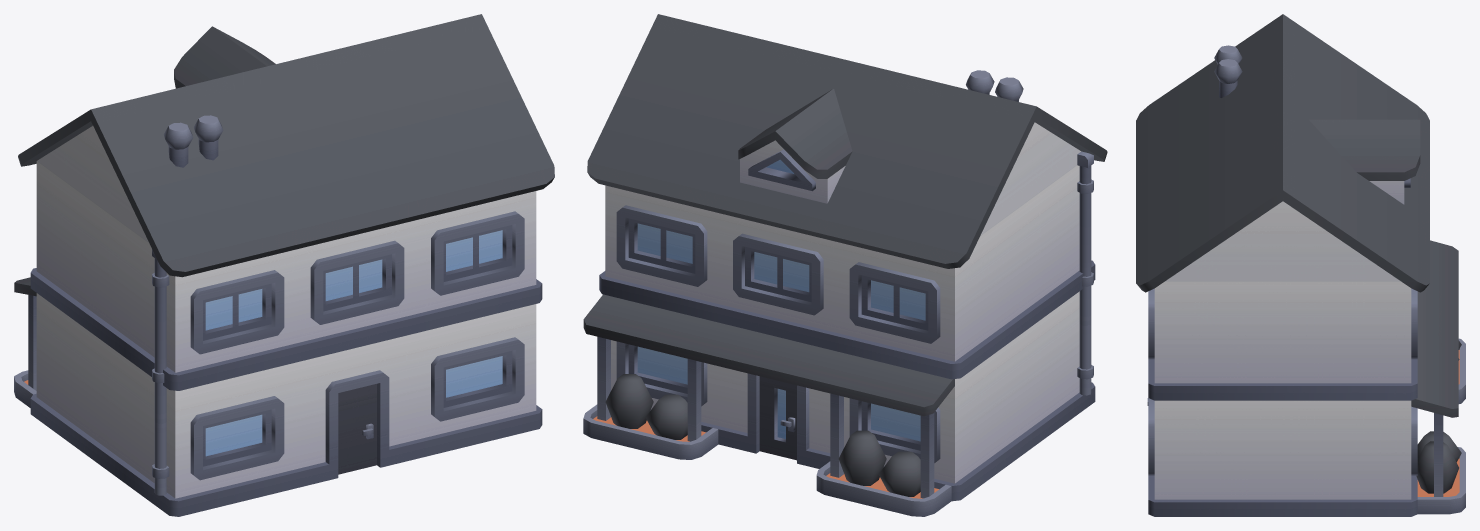
The model's file is farmhouse_e.glb.
3 renders of one model, left to right at view 1: azimuth 30°, elevation 25°; view 2: azimuth 150°, elevation 25°; view 3: azimuth 270°, elevation 25°, orthographic. The views are drawn at different scales.
Parts seen in each view (by area): view 1: building-type-e; view 2: building-type-e; view 3: building-type-e.
Boxes of the visible parts, <box> form: building-type-e: <box>14,14,554,516</box>; building-type-e: <box>583,14,1107,516</box>; building-type-e: <box>1136,14,1465,516</box>.
Bounding box in the file's own units: 1.3 × 1.14 × 1.03.
1 material, 1 textured.
